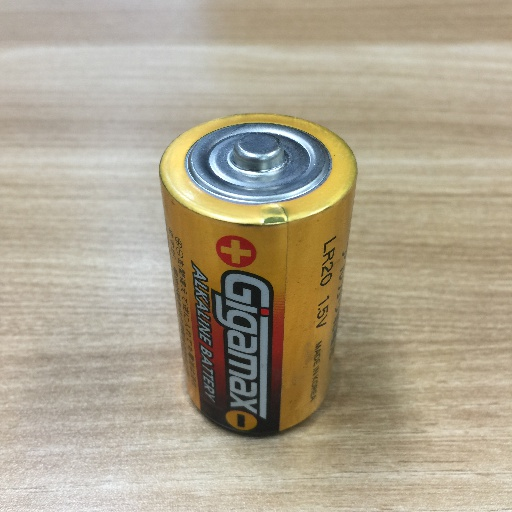Battery_0: (156, 107, 363, 443)
